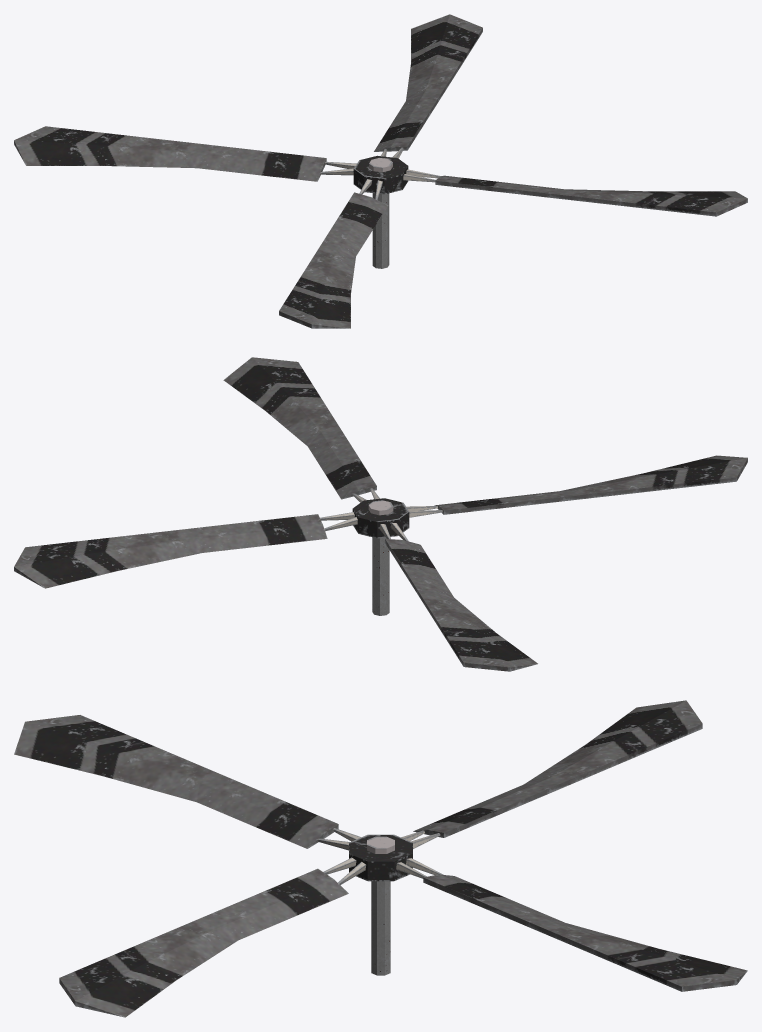
File: propeller_s_1.fbx
3 renders of one model, top to bottom at view 1: azimuth 30°, elevation 25°; view 2: azimuth 150°, elevation 25°; view 3: azimuth 270°, elevation 25°, orthographic. The views are drawn at different scales.
Visible parts, largest first — view 1: propeller_s_1; view 2: propeller_s_1; view 3: propeller_s_1.
Boxes of the visible parts, bbox=[...] form: propeller_s_1: bbox=[14, 14, 747, 328]; propeller_s_1: bbox=[14, 357, 747, 671]; propeller_s_1: bbox=[14, 700, 747, 1017].
Bounding box in the file's own units: 9.54 × 1.85 × 9.54.
